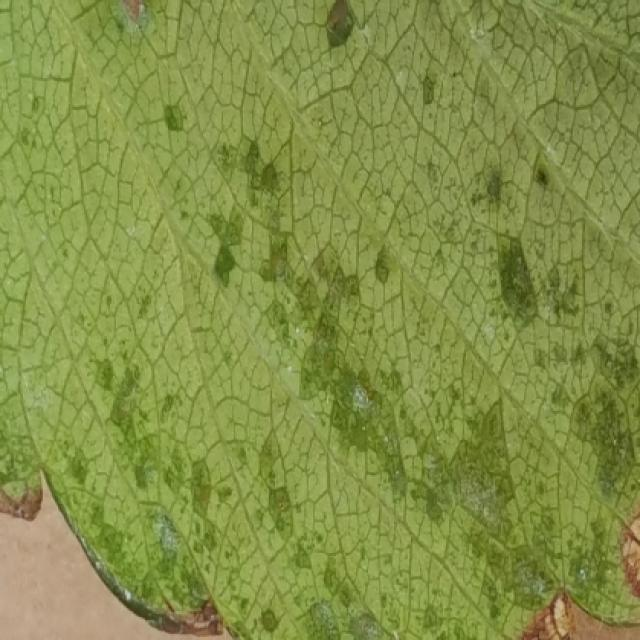Angular Leafspot: (0, 0, 638, 638)
